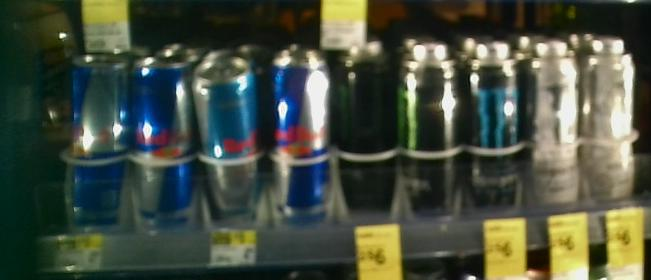bottle: (194, 50, 264, 229), (58, 54, 124, 233), (126, 51, 191, 232), (399, 33, 463, 215), (268, 48, 332, 224), (337, 39, 396, 215), (467, 35, 526, 208), (528, 34, 582, 206), (587, 31, 637, 205)
